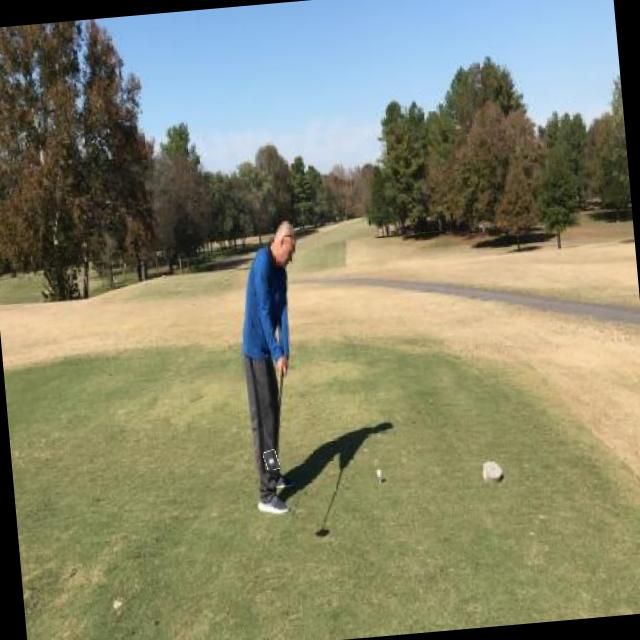club head: (263, 450, 279, 470)
